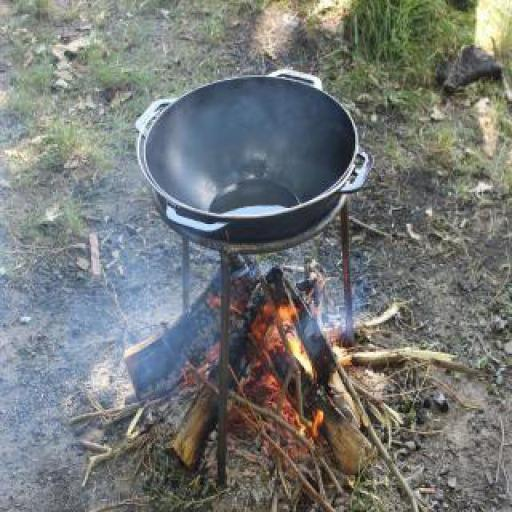smoke: (278, 298, 318, 386), (291, 404, 330, 446)
